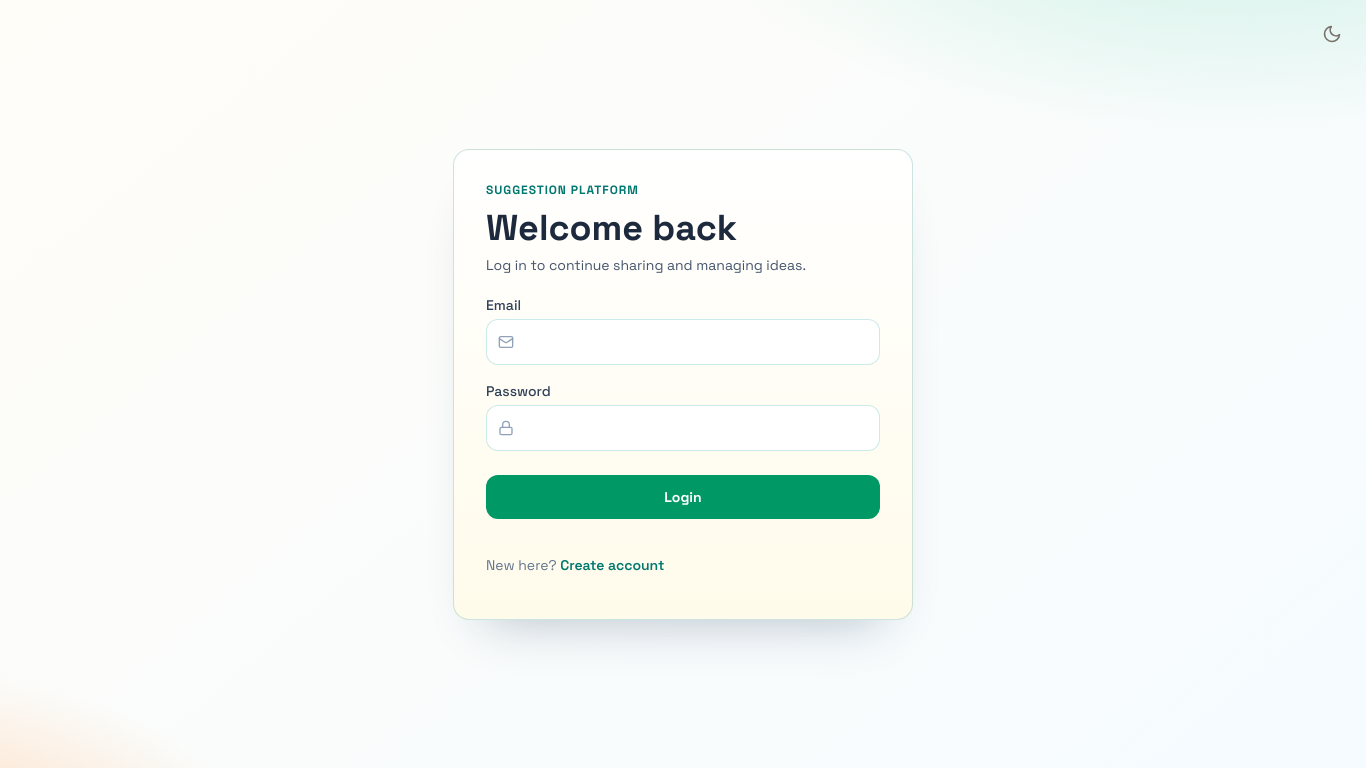
Test: Login Component › shows general and fallback error messages
The width and height of the screenshot is (1366, 768).
Type "a@b.com" into the field labelled "Email" at (683, 342), box [486, 318, 880, 364]
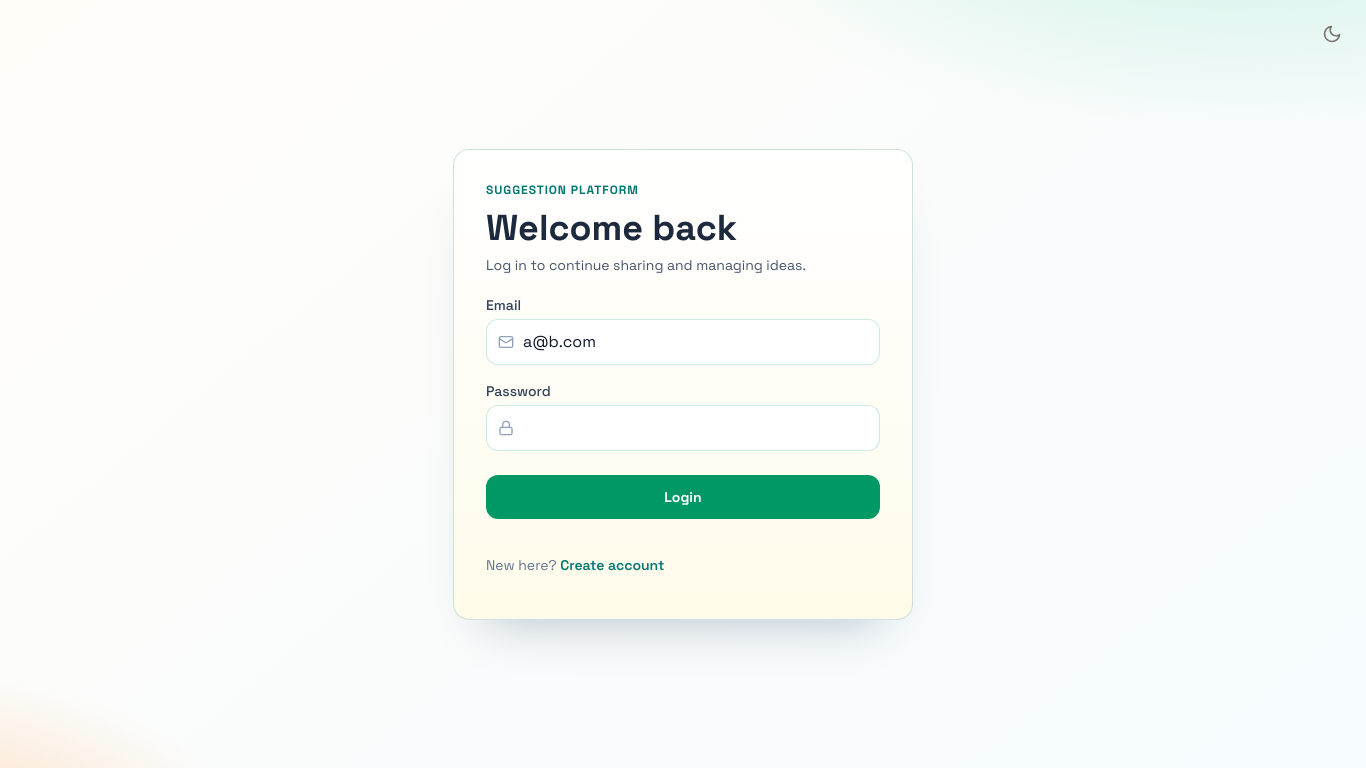
Type "wrong" into the password field labelled "Password" at (683, 428), box [486, 404, 880, 450]
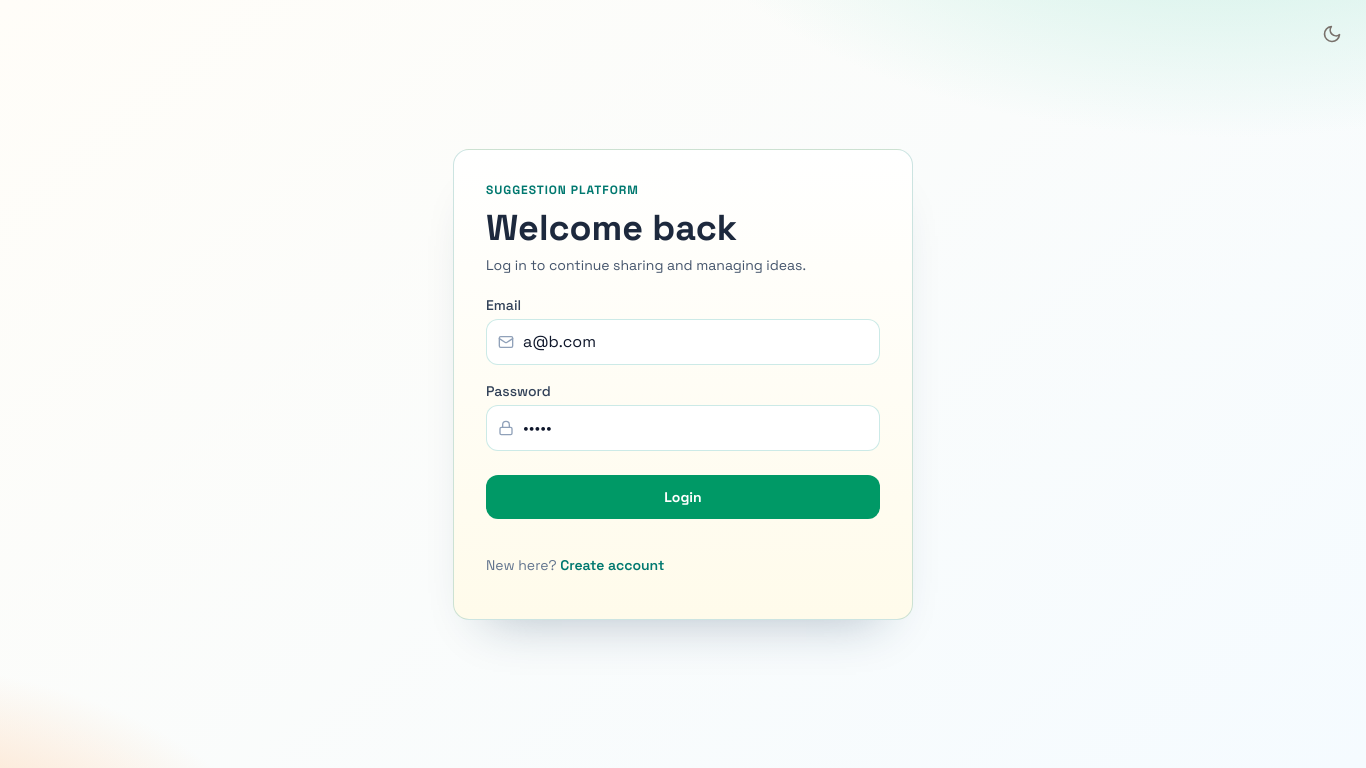
Click the button "Login" at (683, 496), box [486, 474, 880, 518]
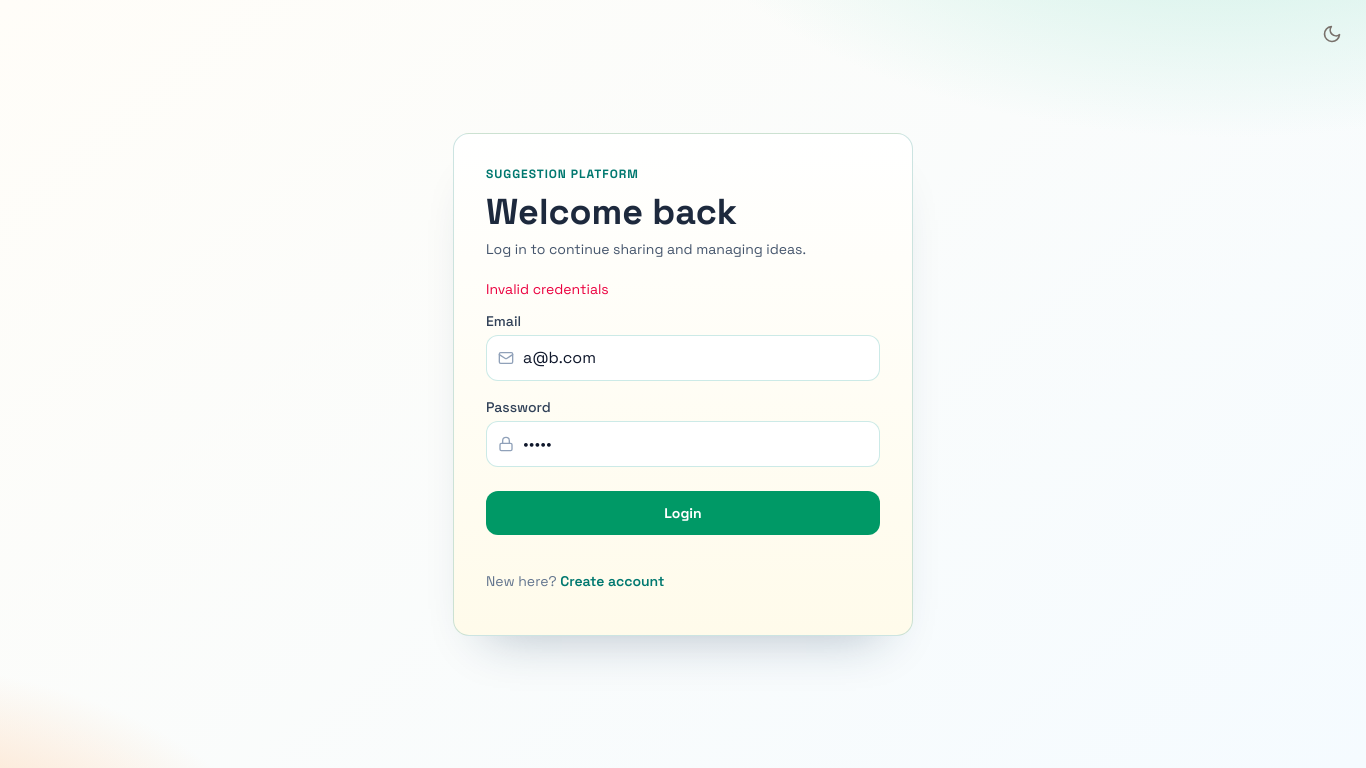
Expected: the text "Invalid credentials" is shown, [486, 280, 609, 298]
Click the button "Login" at (683, 512), box [486, 490, 880, 534]
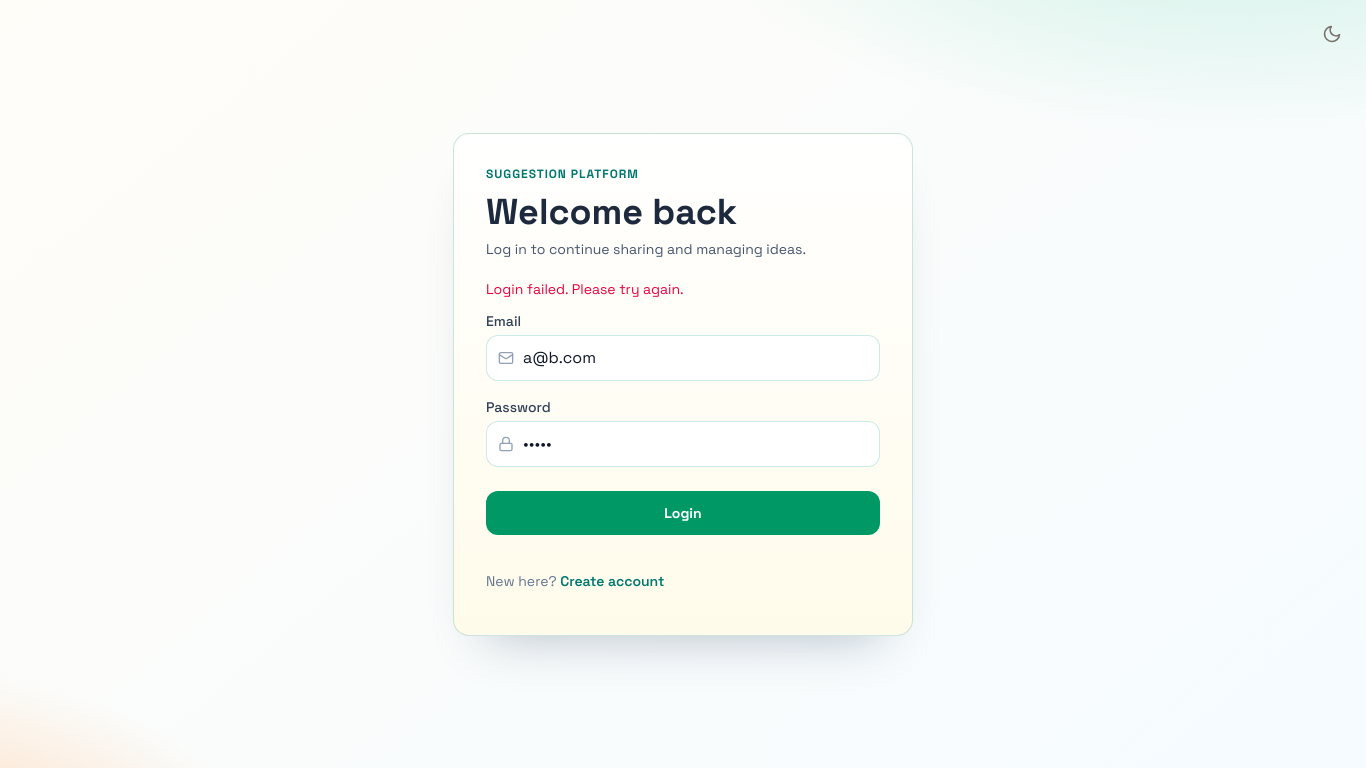
Expected: the text "Login failed. Please try again." is shown, [486, 280, 684, 298]
